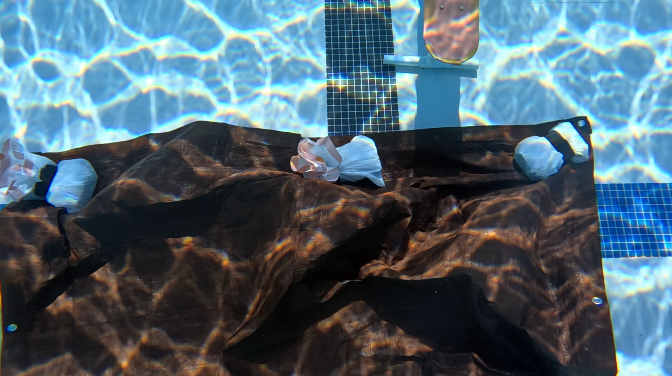pathmarker: (424, 0, 477, 62)
sandbag: (0, 115, 613, 375)
